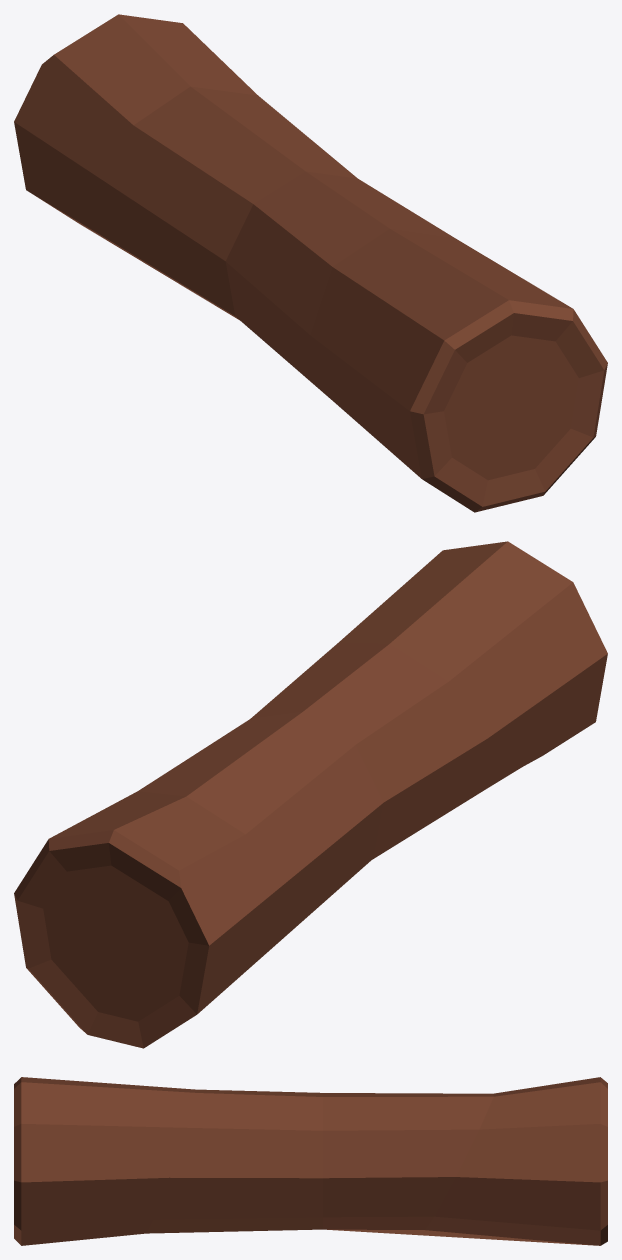
The model's file is log.glb.
3 views of the same model, one above another, from view 1: azimuth 30°, elevation 25°; view 2: azimuth 150°, elevation 25°; view 3: azimuth 270°, elevation 25° (orthographic). The views are drawn at different scales.
Visible parts, largest first — view 1: Cylinder; view 2: Cylinder; view 3: Cylinder.
Part boxes in pixels (x1,y1,x2,y2): Cylinder: [14, 14, 607, 512]; Cylinder: [14, 541, 607, 1048]; Cylinder: [14, 1077, 607, 1245].
Size of the model in its own units: 1.37 by 1.35 by 4.8.
